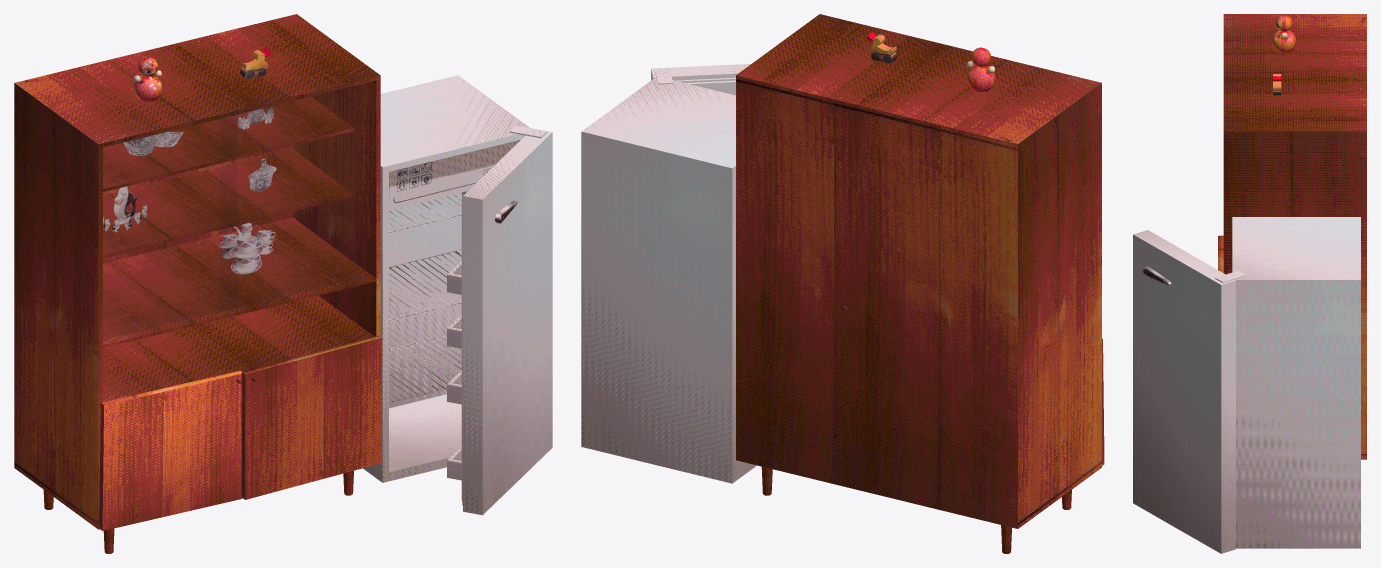
The model's file is closet&stuff.fbx.
3 views of the same model, side by side, from view 1: azimuth 30°, elevation 25°; view 2: azimuth 150°, elevation 25°; view 3: azimuth 270°, elevation 25° (orthographic). The views are drawn at different scales.
Parts seen in each view (by area): view 1: closet, fridge.001, crystal.002, tumbler, crystal.001, crystal.003; view 2: closet, fridge.001, tumbler; view 3: fridge.001, closet, tumbler.
Part boxes in pixels (bbox=[...]): closet: bbox=[14, 14, 382, 553]; fridge.001: bbox=[363, 75, 552, 515]; crystal.002: bbox=[219, 222, 275, 274]; tumbler: bbox=[133, 57, 161, 101]; crystal.001: bbox=[103, 186, 147, 232]; crystal.003: bbox=[123, 131, 183, 155]; closet: bbox=[736, 14, 1104, 553]; fridge.001: bbox=[581, 63, 756, 483]; tumbler: bbox=[967, 47, 995, 91]; fridge.001: bbox=[1133, 217, 1360, 553]; closet: bbox=[1218, 14, 1366, 459]; tumbler: bbox=[1272, 15, 1295, 52].
Bounding box in the file's own units: 348 × 339 × 183.
